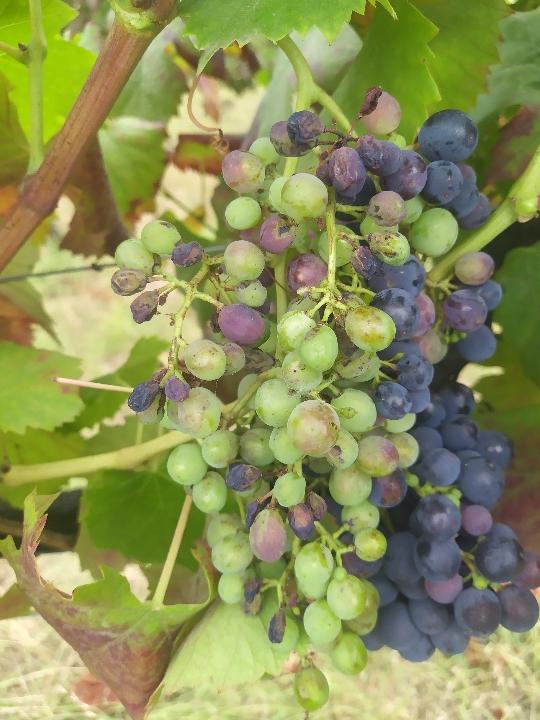grape: (112, 85, 501, 715)
